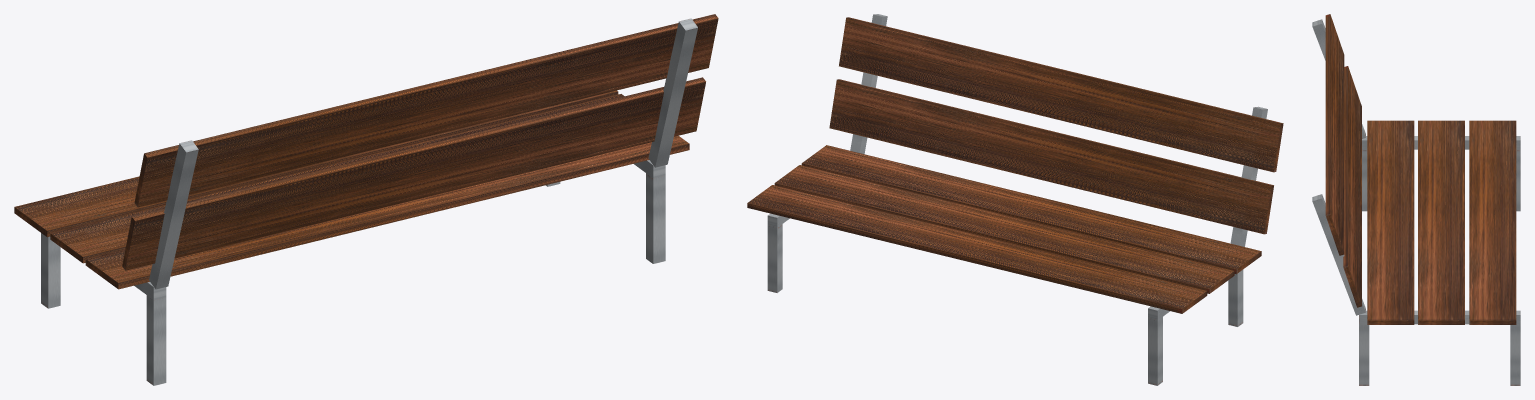
File: town_large_01.fbx
The picture shows the model from 3 angles, left to right: view 1: azimuth 30°, elevation 25°; view 2: azimuth 150°, elevation 25°; view 3: azimuth 270°, elevation 25°; orthographic projection. The views are drawn at different scales.
Parts seen in each view (by area): view 1: town_large_01; view 2: town_large_01; view 3: town_large_01.
Boxes of the visible parts, <box> form: town_large_01: <box>14,14,718,385</box>; town_large_01: <box>747,14,1283,385</box>; town_large_01: <box>1312,14,1520,385</box>.
Bounding box in the file's own units: 245 × 107 × 108.
